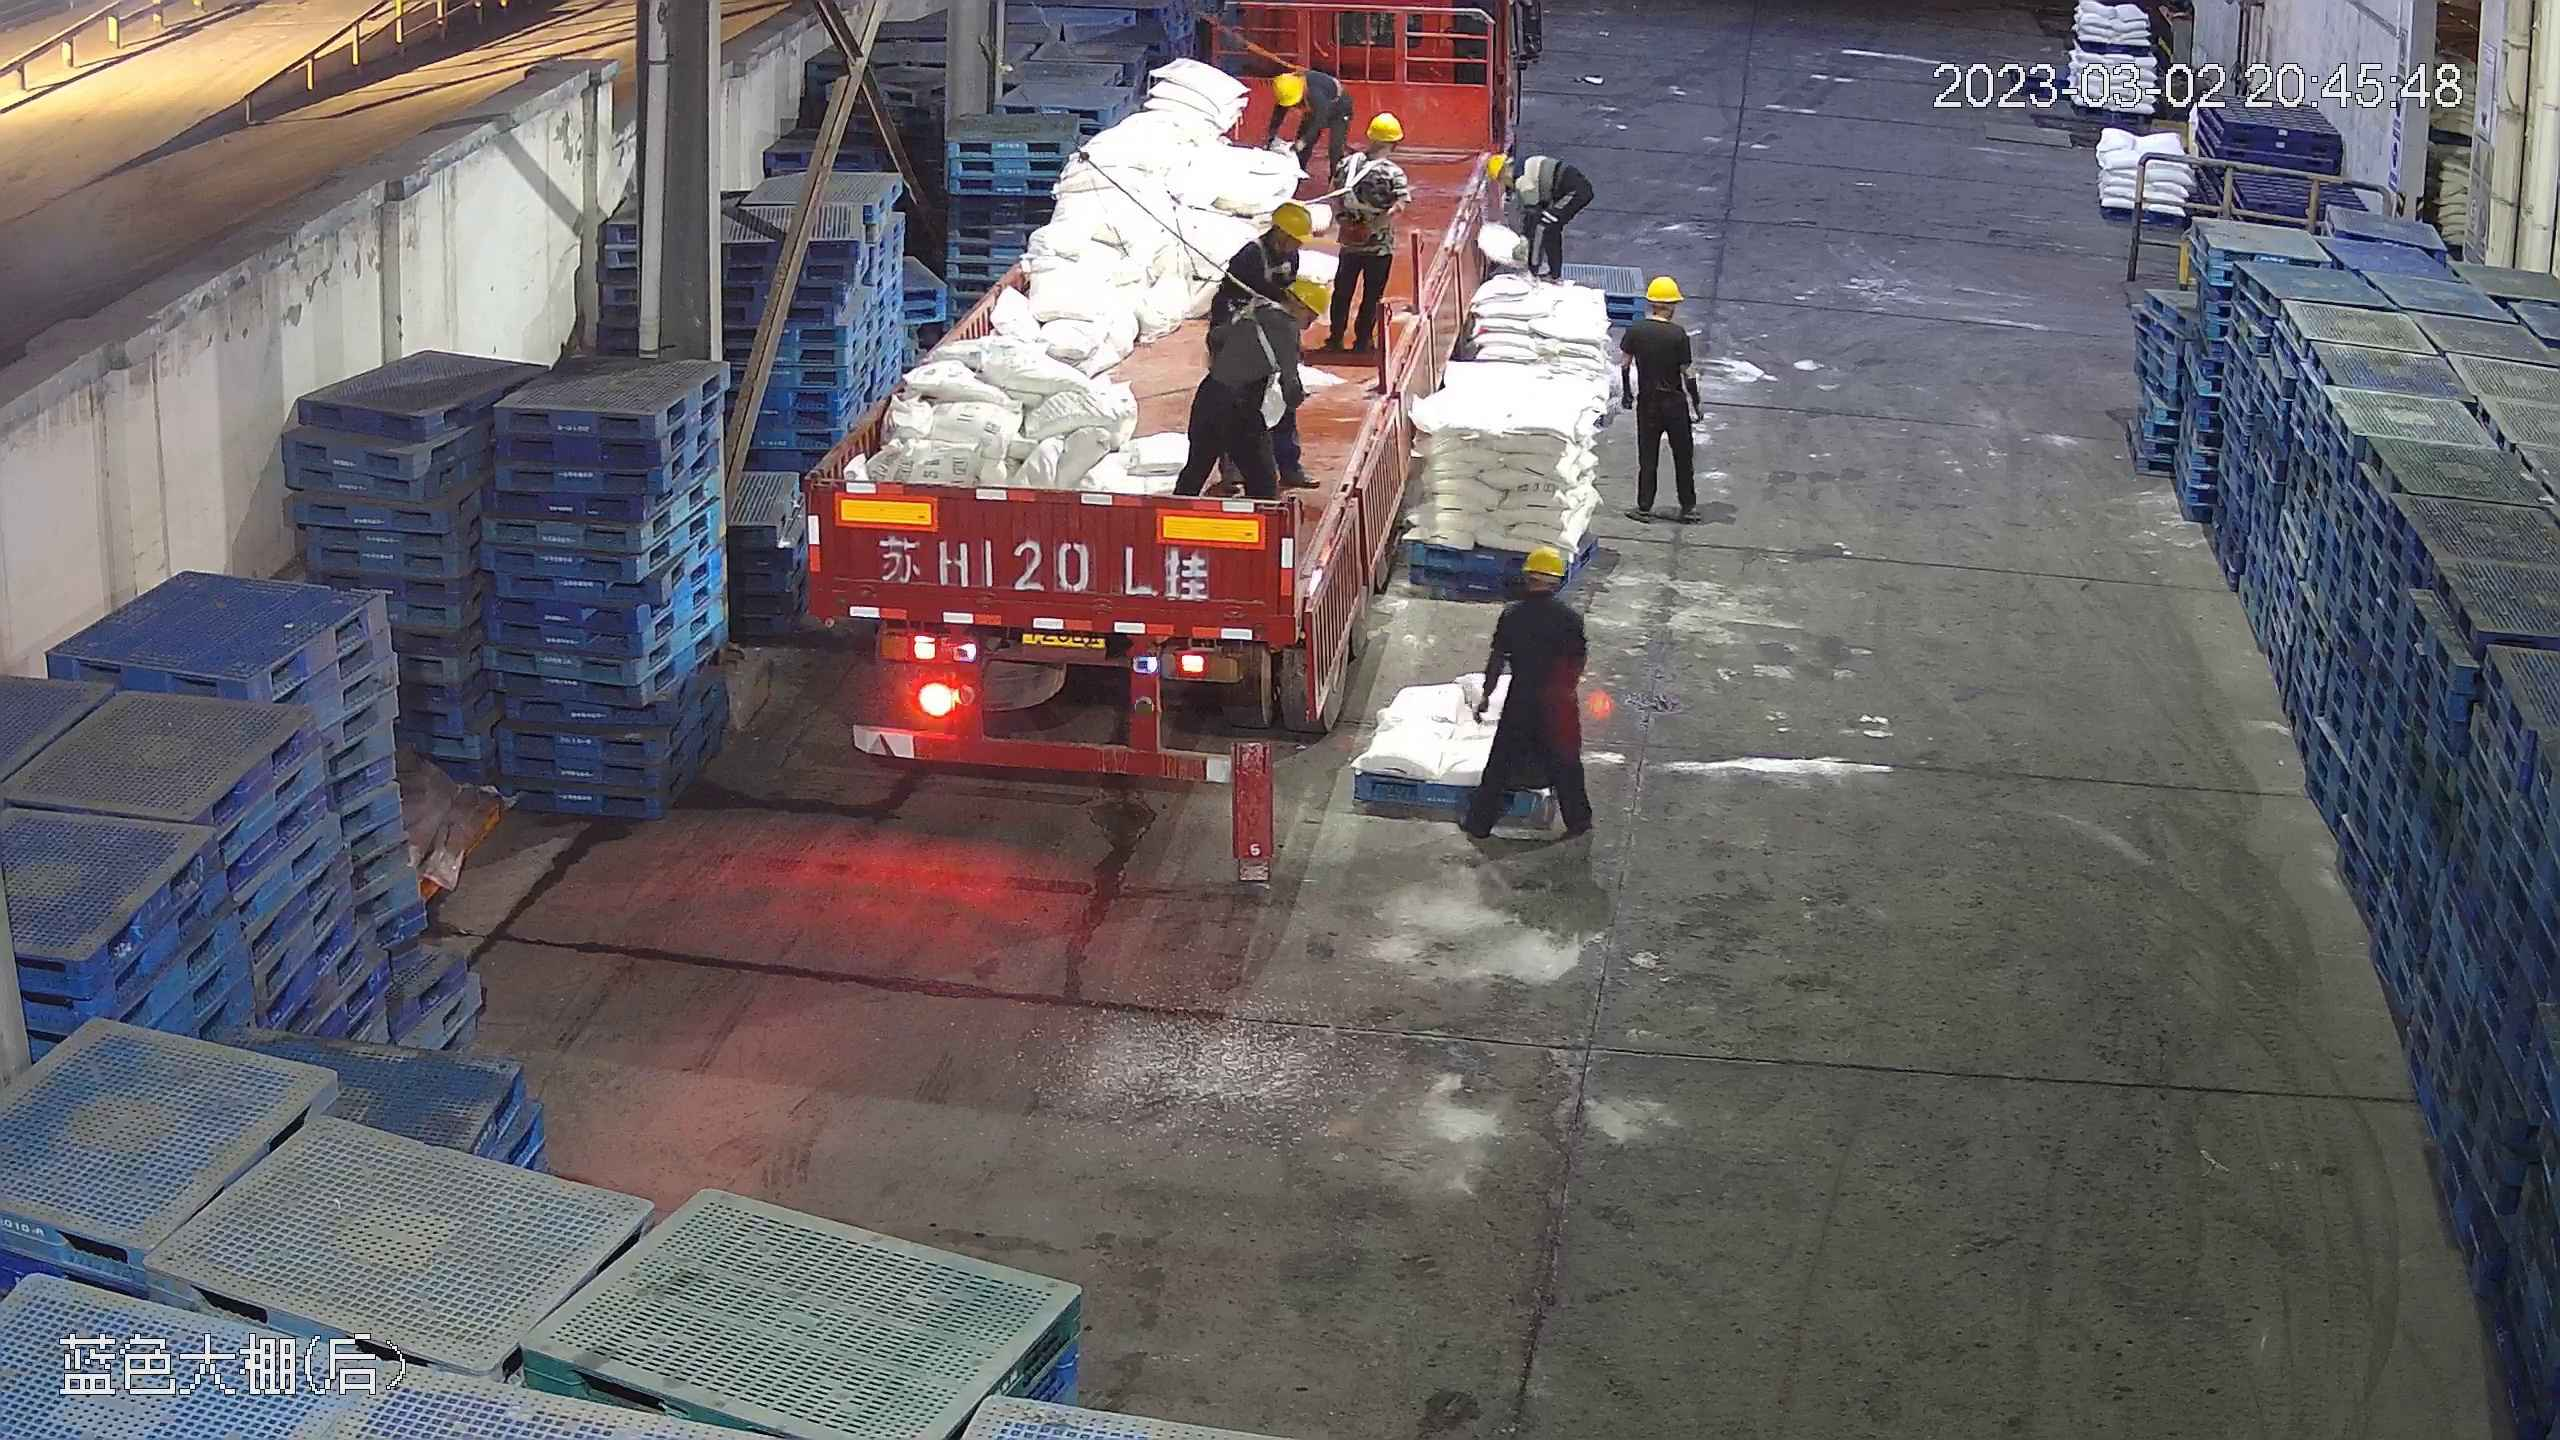belt: (1209, 287, 1294, 370), (1225, 229, 1289, 295), (1340, 155, 1397, 215), (1289, 61, 1346, 115)
head: (1493, 544, 1585, 642), (1229, 274, 1329, 364), (1227, 204, 1312, 278), (1338, 111, 1408, 191), (1622, 276, 1694, 356), (1265, 67, 1340, 125), (1482, 154, 1555, 207)
helmet: (1285, 272, 1330, 321), (1270, 201, 1315, 243), (1273, 69, 1308, 107), (1521, 545, 1563, 577), (1361, 113, 1403, 141), (1643, 274, 1684, 302), (1485, 153, 1512, 182)
people: (1463, 543, 1590, 846), (1178, 268, 1326, 504), (1619, 274, 1711, 522), (1330, 114, 1408, 358), (1485, 153, 1587, 294), (1255, 67, 1355, 179)
truck: (803, 16, 1485, 778)
